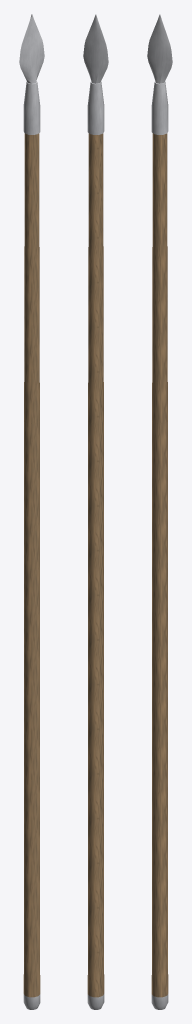
File: spear.glb
3 views of the same model, side by side, from view 1: azimuth 30°, elevation 25°; view 2: azimuth 150°, elevation 25°; view 3: azimuth 330°, elevation 25° (orthographic).
Parts seen in each view (by area): view 1: OUT; view 2: OUT; view 3: OUT.
Part boxes in pixels (x1,y1,x2,y2): OUT: (19,14,44,1009); OUT: (83,14,108,1009); OUT: (147,14,172,1009).
Size of the model in its own units: 0.0589 by 2.2 by 0.0323.
2 materials, 2 textured.
